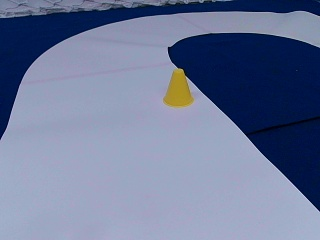cone: (163, 70, 193, 106)
